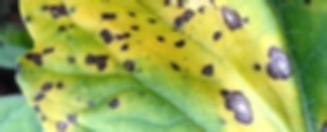Tomato Septoria leaf spot: (4, 0, 327, 132)
